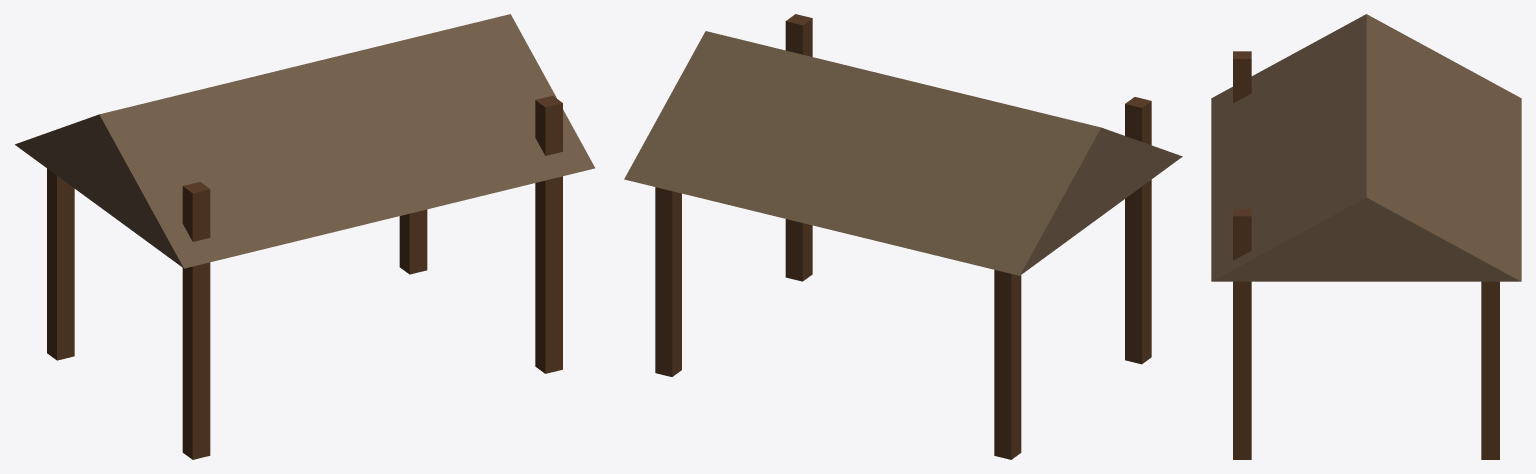
The model's file is castle_site_hut.glb.
The picture shows the model from 3 angles, left to right: view 1: azimuth 30°, elevation 25°; view 2: azimuth 150°, elevation 25°; view 3: azimuth 270°, elevation 25°; orthographic projection. The views are drawn at different scales.
Visible parts, largest first — view 1: castle_site_hut; view 2: castle_site_hut; view 3: castle_site_hut.
Boxes of the visible parts, <box> form: castle_site_hut: <box>15,14,594,459</box>; castle_site_hut: <box>624,14,1182,459</box>; castle_site_hut: <box>1211,14,1521,459</box>.
Bounding box in the file's own units: 4.2 × 2.9 × 3.
